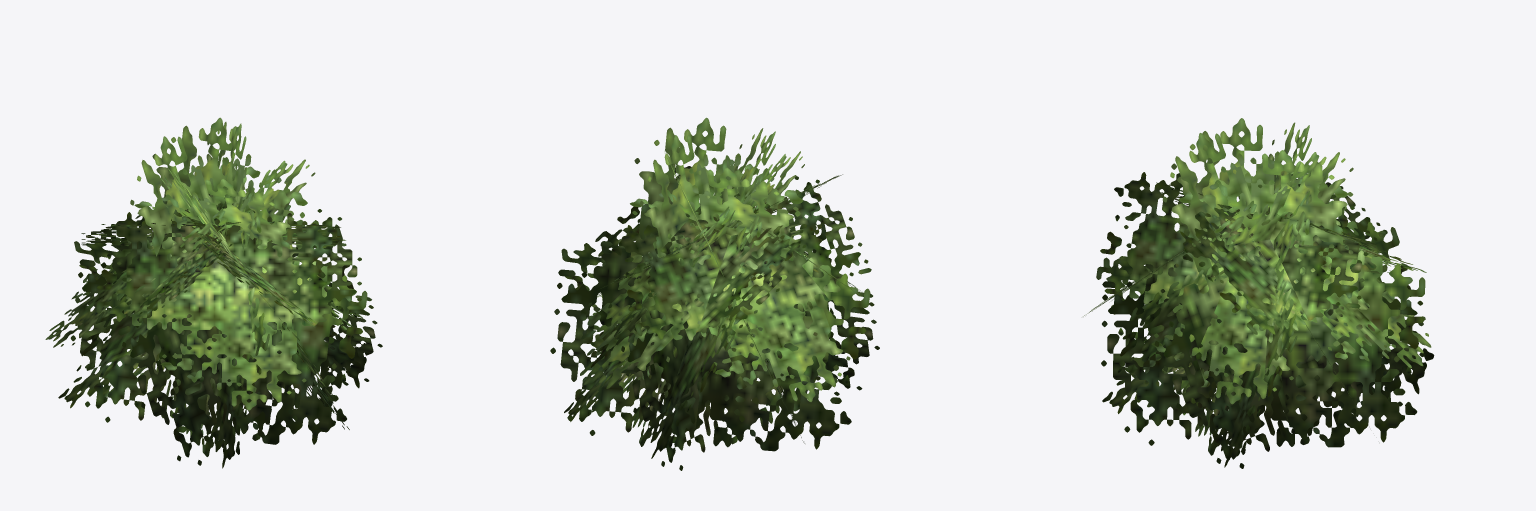
Rendered from shrub-5.glb.
3 renders of one model, left to right at view 1: azimuth 30°, elevation 25°; view 2: azimuth 150°, elevation 25°; view 3: azimuth 270°, elevation 25°, orthographic. The views are drawn at different scales.
Visible parts, largest first — view 1: shrub-5; view 2: shrub-5; view 3: shrub-5.
Part boxes in pixels (x1,y1,x2,y2): shrub-5: [45, 117, 382, 468]; shrub-5: [550, 117, 879, 470]; shrub-5: [1083, 118, 1434, 468].
Bounding box in the file's own units: 4.78 × 3.75 × 5.18.
Materials: 1 (1 with a texture image).
